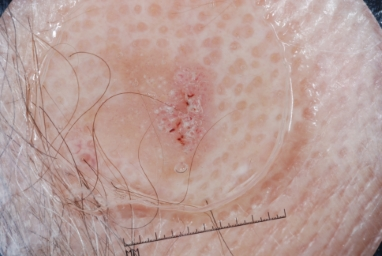seborrheic keratosis: (125, 51, 237, 167)
